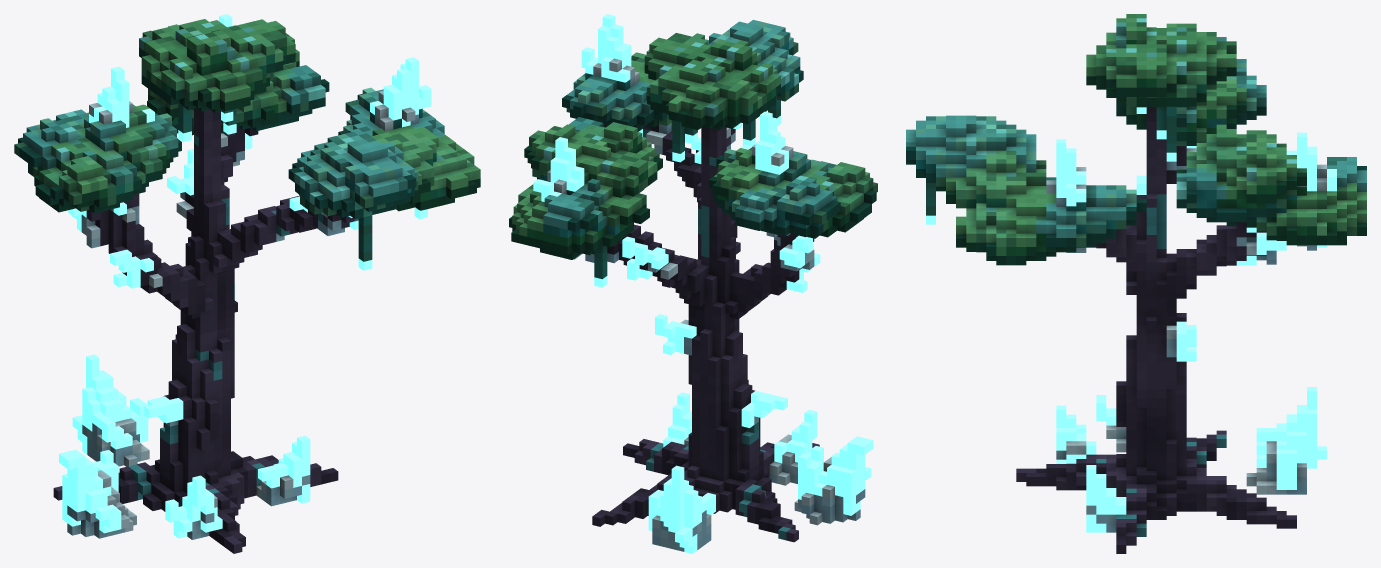
The model's file is tree-crystal-l.glb.
3 renders of one model, left to right at view 1: azimuth 30°, elevation 25°; view 2: azimuth 150°, elevation 25°; view 3: azimuth 270°, elevation 25°, orthographic. The views are drawn at different scales.
Visible parts, largest first — view 1: TREE_CRYSTAL_L__details; view 2: TREE_CRYSTAL_L__details; view 3: TREE_CRYSTAL_L__details.
Part boxes in pixels (box(x1,y1,x2,y2)): TREE_CRYSTAL_L__details: box(14, 14, 480, 553); TREE_CRYSTAL_L__details: box(509, 14, 877, 553); TREE_CRYSTAL_L__details: box(906, 14, 1366, 553).
Bounding box in the file's own units: 1.58 × 2 × 1.77.
